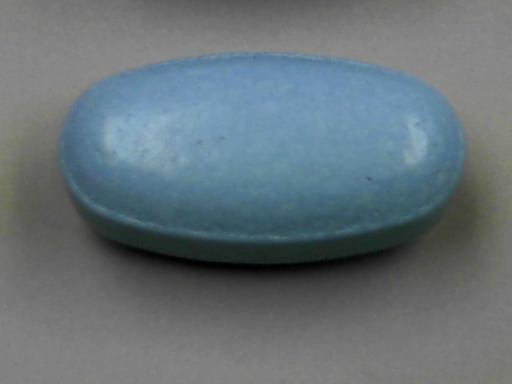Pill: (55, 48, 469, 272)
